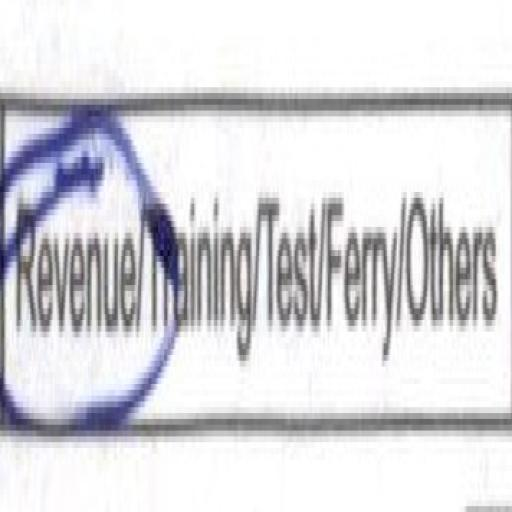check: (2, 78, 144, 482)
